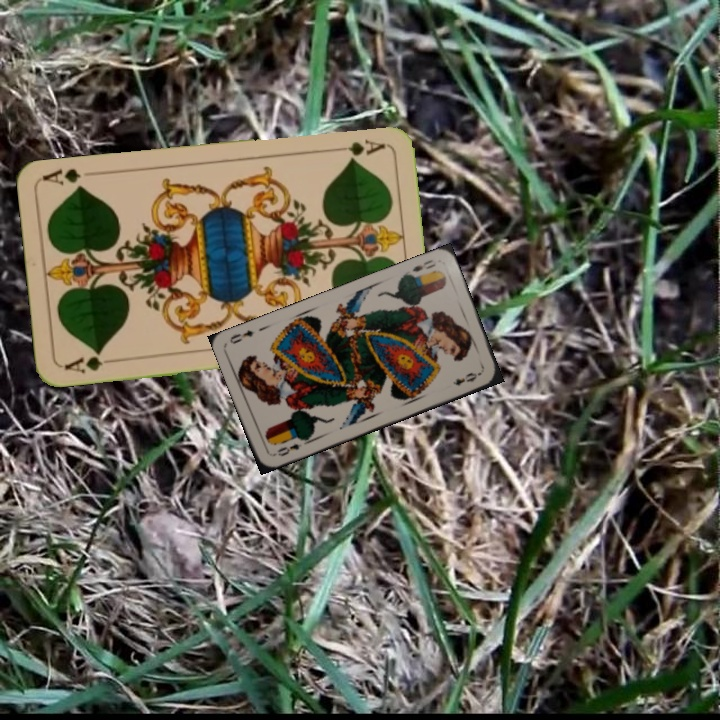EO: (269, 440, 304, 459), (408, 255, 438, 275)
GA: (61, 348, 119, 377), (329, 134, 388, 162)
